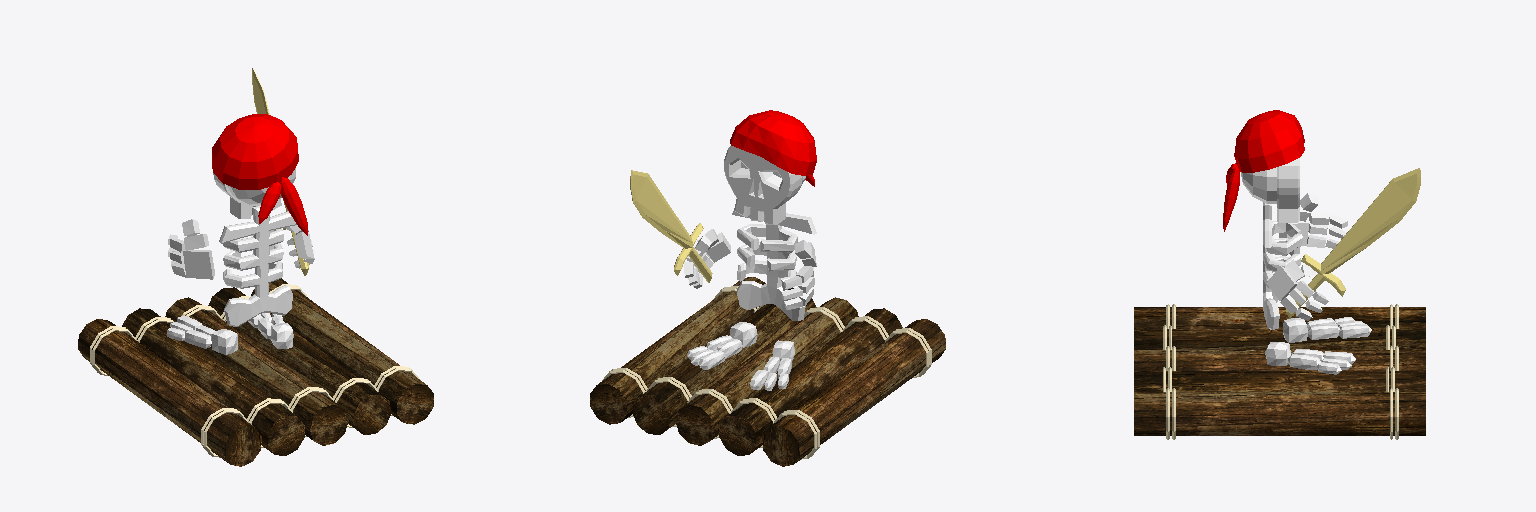
The picture shows the model from 3 angles: view 1: azimuth 30°, elevation 25°; view 2: azimuth 150°, elevation 25°; view 3: azimuth 270°, elevation 25°; orthographic projection.
Visible parts, largest first — view 1: Cylinder05, Cylinder04, Cylinder01, Cylinder03, Line02, Sphere02, Cylinder02, Box02, Box14, Box15, Sphere03, Box01 (+2 smaller); view 2: Cylinder05, Cylinder04, Cylinder01, Cylinder03, Cylinder02, Line02, Line01, Sphere02, Line03, Box15, Box02, Box14 (+1 smaller); view 3: Cylinder01, Cylinder02, Cylinder04, Cylinder05, Cylinder03, Line03, Sphere02, Line02, Box01, Box15, Box14, Box02 (+3 smaller).
Boxes of the visible parts, box(x1,y1,x2,y2) form: Cylinder05: box(78, 319, 261, 466); Cylinder04: box(122, 308, 304, 455); Cylinder01: box(251, 278, 433, 424); Cylinder03: box(165, 297, 348, 445); Line02: box(219, 205, 296, 326); Sphere02: box(212, 114, 298, 189); Cylinder02: box(208, 287, 391, 434); Box02: box(168, 219, 214, 279); Box14: box(167, 315, 237, 354); Box15: box(248, 313, 293, 348); Sphere03: box(279, 177, 307, 235); Box01: box(286, 225, 314, 268); Cylinder05: box(762, 319, 945, 466); Cylinder04: box(719, 308, 902, 455); Cylinder01: box(590, 277, 765, 424); Cylinder03: box(675, 297, 858, 445); Cylinder02: box(632, 288, 816, 434); Line02: box(732, 211, 816, 320); Line01: box(724, 146, 802, 224); Sphere02: box(730, 110, 816, 175); Line03: box(630, 170, 712, 282); Box15: box(687, 322, 757, 369); Box02: box(782, 240, 816, 309); Box14: box(750, 340, 794, 390); Cylinder01: box(1134, 392, 1425, 435); Cylinder02: box(1134, 371, 1425, 391); Cylinder04: box(1134, 329, 1425, 349); Cylinder05: box(1134, 307, 1425, 328); Cylinder03: box(1134, 350, 1425, 370); Line03: box(1285, 168, 1420, 318); Sphere02: box(1234, 110, 1304, 172); Line02: box(1263, 202, 1302, 329); Box01: box(1266, 259, 1328, 320); Box15: box(1265, 342, 1355, 374); Box14: box(1283, 317, 1371, 342); Box02: box(1279, 193, 1347, 248).
Size of the model in its own units: 23.15 by 28.76 by 27.21.
5 materials, 1 textured.